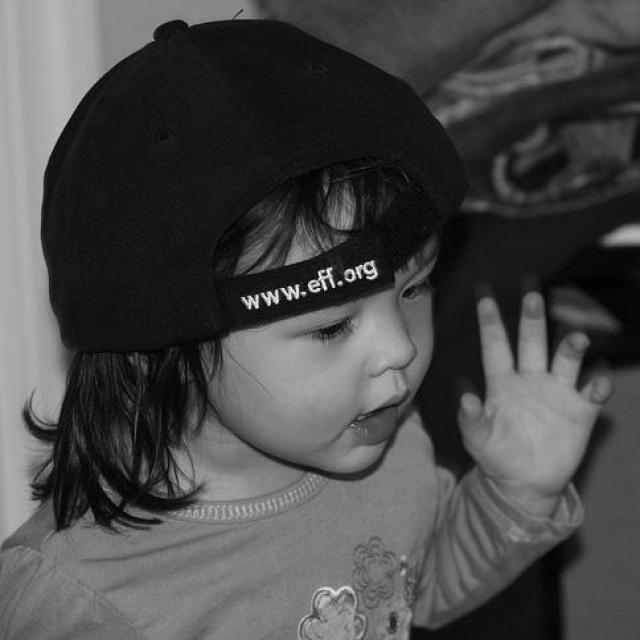No_Gloves: (453, 296, 612, 502)
